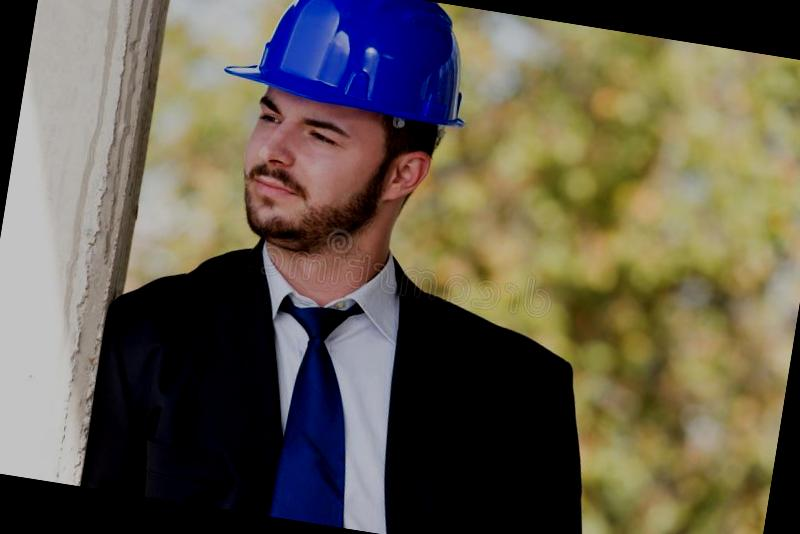helmet: (213, 0, 488, 140)
no_vest: (67, 216, 584, 534)
person: (71, 0, 637, 534)
